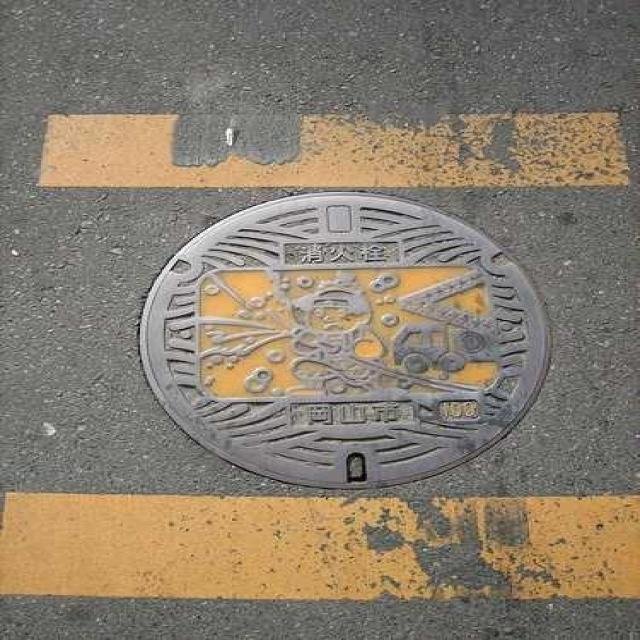manhole: (140, 193, 547, 489)
